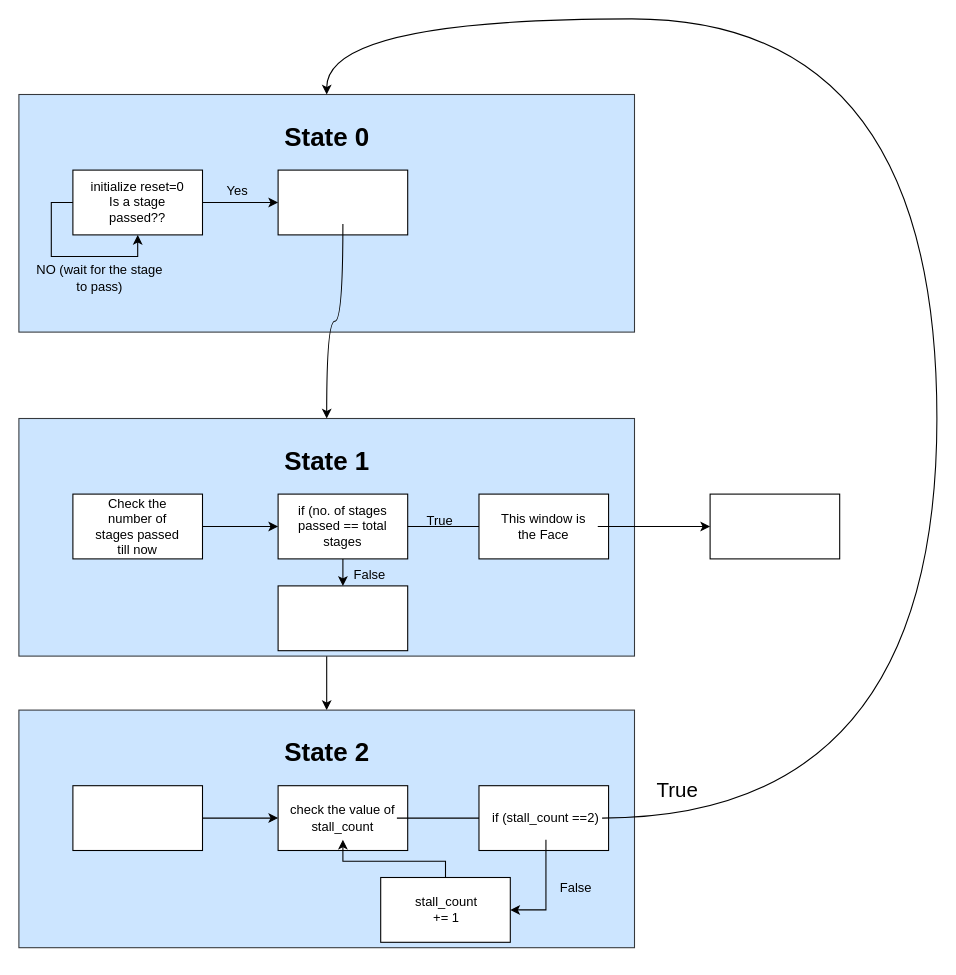
Image size: 956x975. Some labels were removed from this diagram. Here are the shapes that lost their labels. From the top down, the box of each, then its label:
(277, 169, 408, 235): Update the count of no. of stages passed
(709, 493, 840, 559): Face Detected
(277, 585, 408, 651): stall_count=0 stage address +=1
(72, 785, 202, 850): Reset = 1 stage_sum = 0 stage_decision =0
